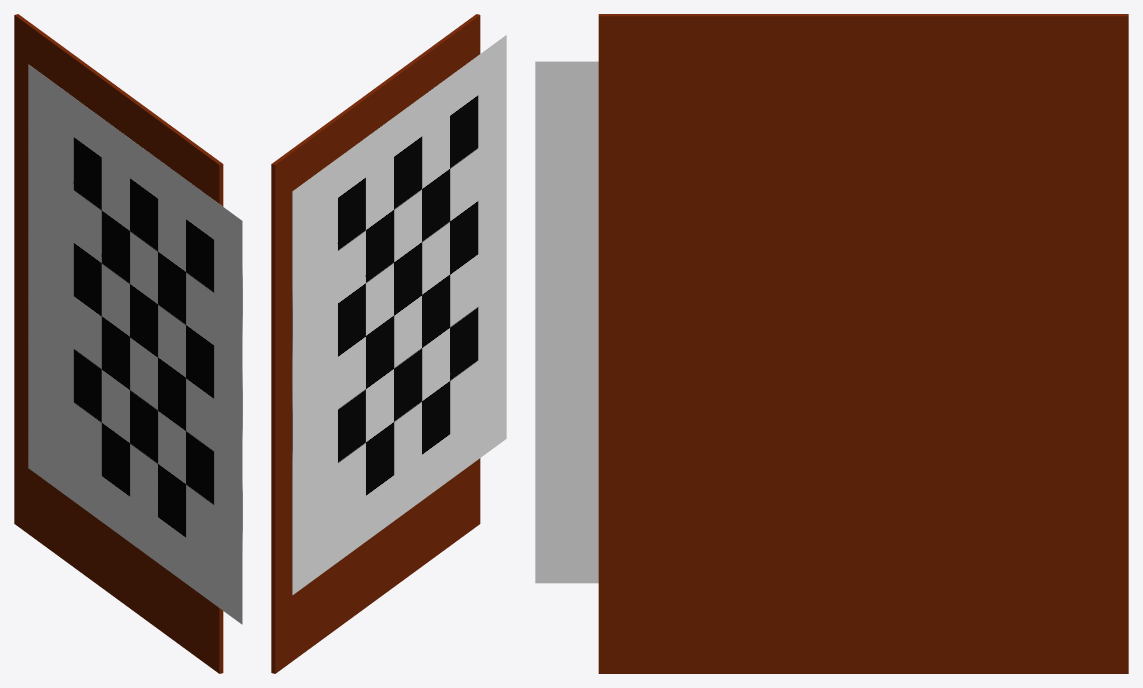
Rendered from QAPlanGrid.obj.
3 views of the same model, side by side, from view 1: azimuth 30°, elevation 25°; view 2: azimuth 150°, elevation 25°; view 3: azimuth 270°, elevation 25° (orthographic). The views are drawn at different scales.
Visible parts, largest first — view 1: 1, 2; view 2: 1, 2; view 3: 2, 1.
Boxes of the visible parts, x1,y1,x2,y2 form: 1: (28,64,242,624); 2: (14,14,223,673); 1: (292,35,506,595); 2: (271,14,480,673); 2: (598,14,1128,673); 1: (535,61,598,583).
Bounding box in the file's own units: 0.009 × 0.8001 × 0.654.
Materials: 2 (1 with a texture image).
